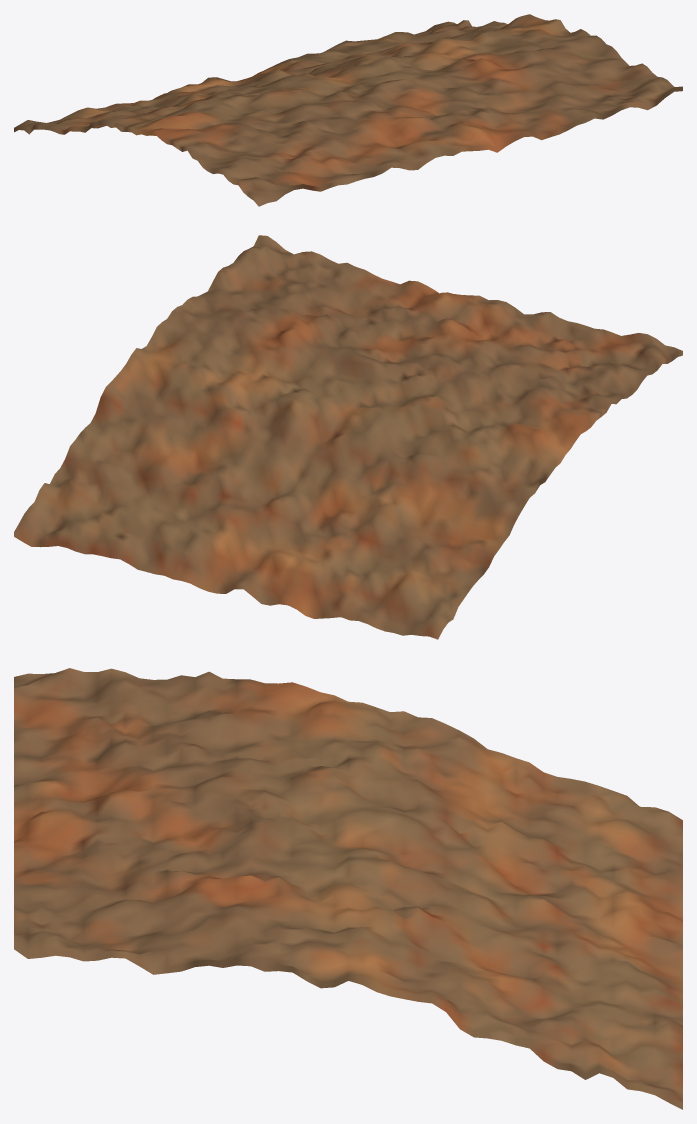
File: terrain-143.glb
3 renders of one model, top to bottom at view 1: azimuth 30°, elevation 25°; view 2: azimuth 150°, elevation 25°; view 3: azimuth 270°, elevation 25°, orthographic. The views are drawn at different scales.
Visible parts, largest first — view 1: terrain-143; view 2: terrain-143; view 3: terrain-143.
Boxes of the visible parts, bbox=[...] form: terrain-143: bbox=[14, 14, 682, 206]; terrain-143: bbox=[14, 235, 682, 639]; terrain-143: bbox=[14, 668, 682, 1109].
Bounding box in the file's own units: 384 × 115 × 384.
